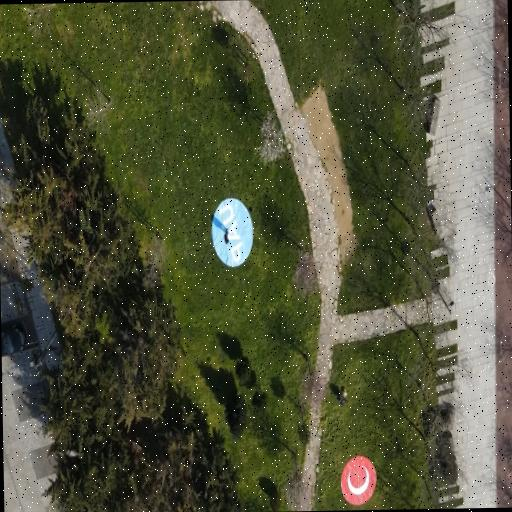UAI: (340, 456, 376, 506)
UAP: (211, 198, 253, 267)
person: (225, 228, 229, 243)
